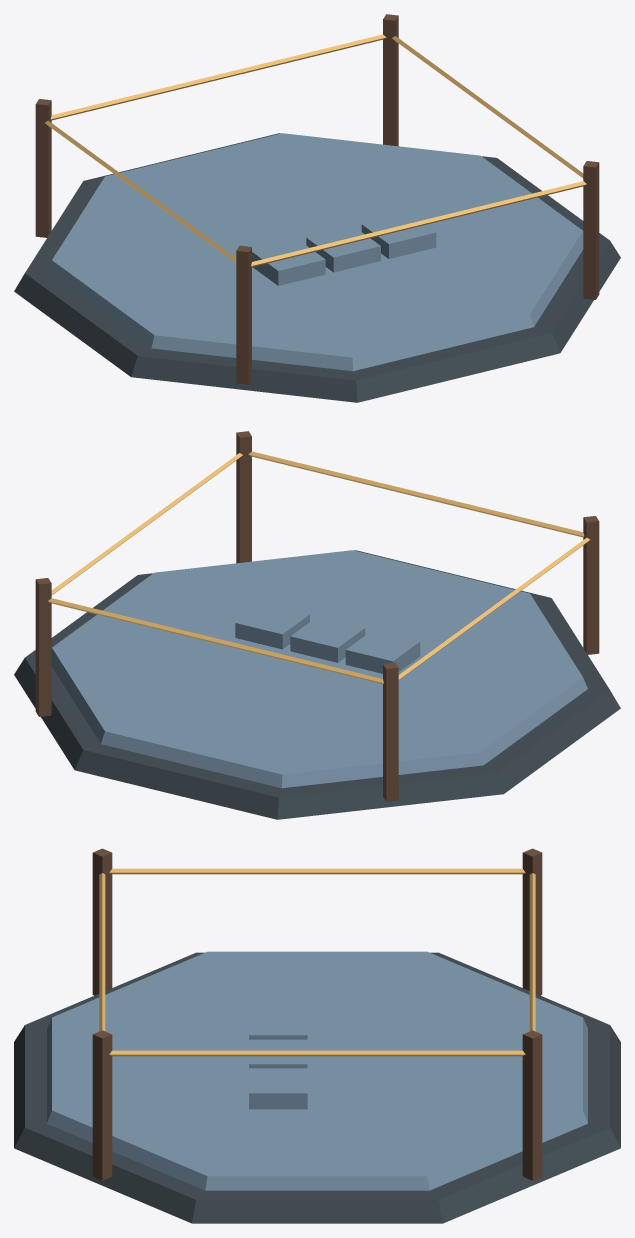
The model's file is Site.fbx.
3 renders of one model, top to bottom at view 1: azimuth 30°, elevation 25°; view 2: azimuth 150°, elevation 25°; view 3: azimuth 270°, elevation 25°, orthographic. The views are drawn at different scales.
Parts seen in each view (by area): view 1: Site; view 2: Site; view 3: Site.
Part boxes in pixels (bbox=[...]): Site: bbox=[14, 14, 620, 402]; Site: bbox=[14, 431, 620, 819]; Site: bbox=[14, 848, 620, 1223].
Size of the model in its own units: 2.9 by 0.8 by 2.9.
